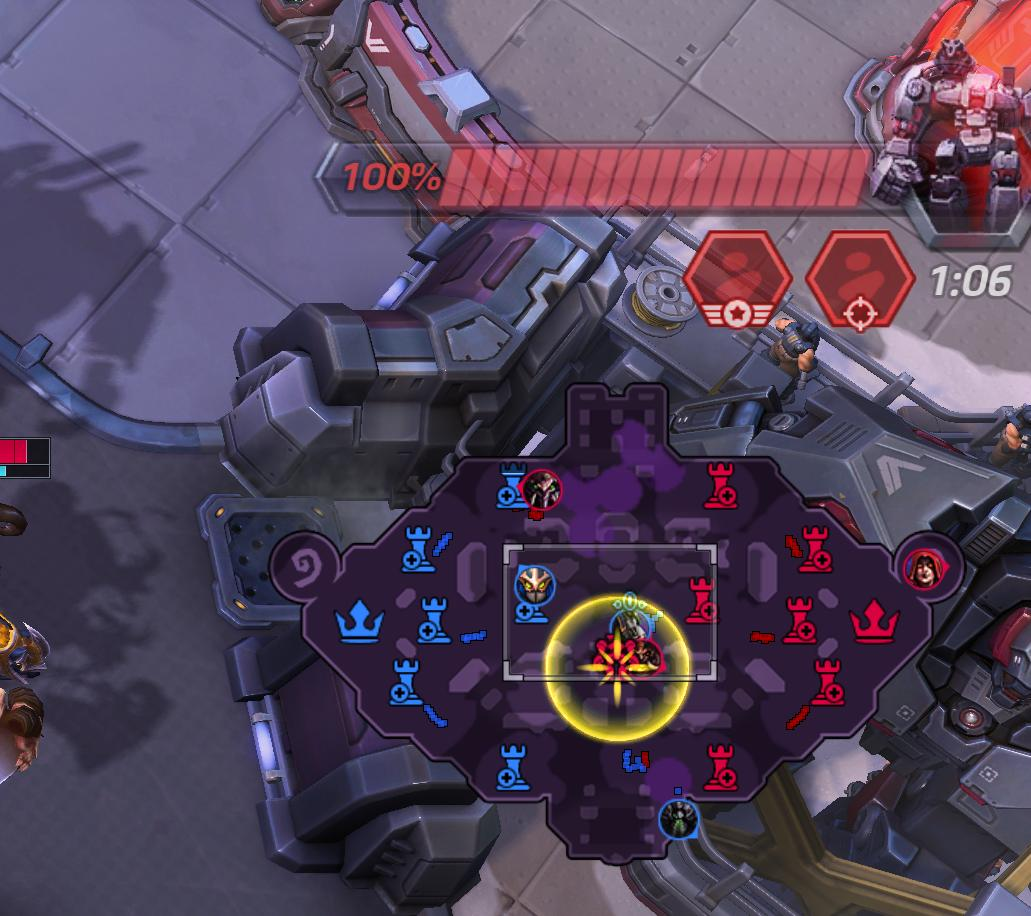blue nexus: (330, 591, 393, 649)
blue player: (657, 797, 700, 842), (517, 564, 556, 608), (608, 608, 653, 646)
blue tower: (489, 741, 535, 796), (395, 522, 439, 576), (491, 458, 534, 513), (385, 656, 429, 708), (413, 595, 454, 647)
red nexus: (845, 595, 904, 646)
red player: (521, 468, 561, 518), (622, 638, 667, 682), (903, 547, 949, 589)
red tower: (698, 458, 743, 514), (696, 743, 744, 794), (682, 575, 726, 630), (806, 656, 848, 707), (798, 522, 837, 576), (782, 594, 818, 646)
